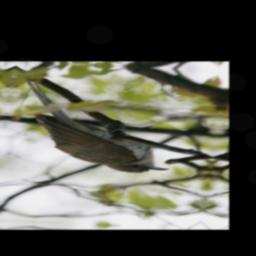Cuckoo: (9, 78, 184, 175)
